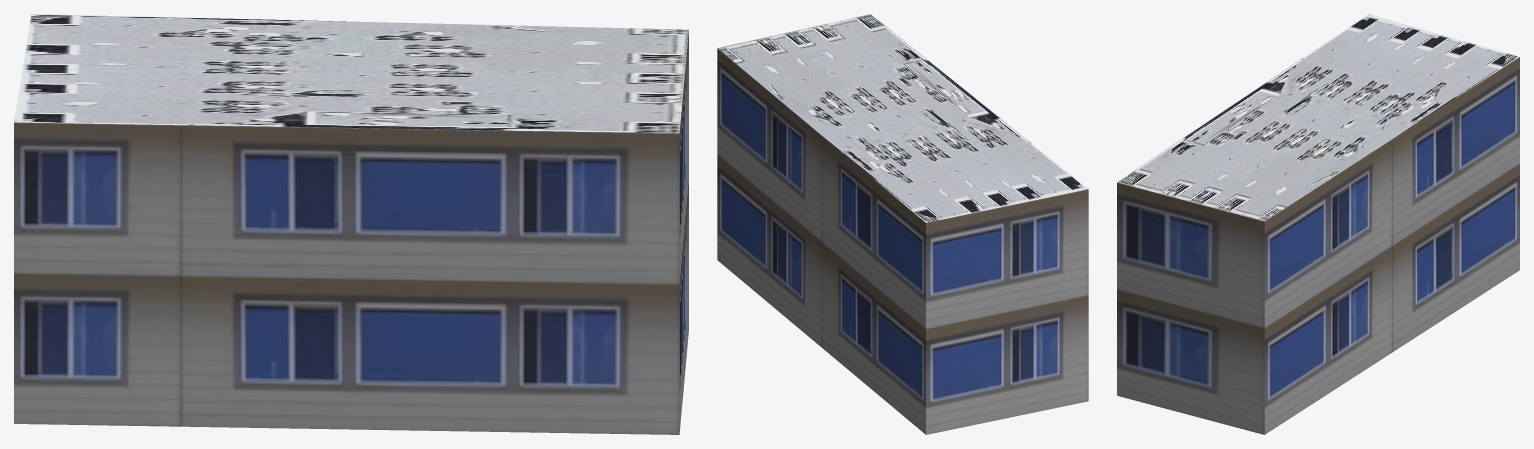
File: ResTex__2030.fbx
3 views of the same model, side by side, from view 1: azimuth 30°, elevation 25°; view 2: azimuth 150°, elevation 25°; view 3: azimuth 270°, elevation 25° (orthographic). The views are drawn at different scales.
Visible parts, largest first — view 1: CityEngineMaterial_23_m, CityEngineMaterial_8_m; view 2: CityEngineMaterial_23_m, CityEngineMaterial_8_m; view 3: CityEngineMaterial_23_m, CityEngineMaterial_8_m.
Part boxes in pixels (box(x1,y1,x2,y2)): CityEngineMaterial_23_m: box(14, 31, 688, 434); CityEngineMaterial_8_m: box(14, 14, 688, 133); CityEngineMaterial_23_m: box(717, 48, 1088, 434); CityEngineMaterial_8_m: box(717, 14, 1088, 222); CityEngineMaterial_23_m: box(1117, 57, 1519, 434); CityEngineMaterial_8_m: box(1117, 14, 1519, 221).
Size of the model in its own units: 12.53 by 6 by 10.27.
2 materials, 2 textured.
